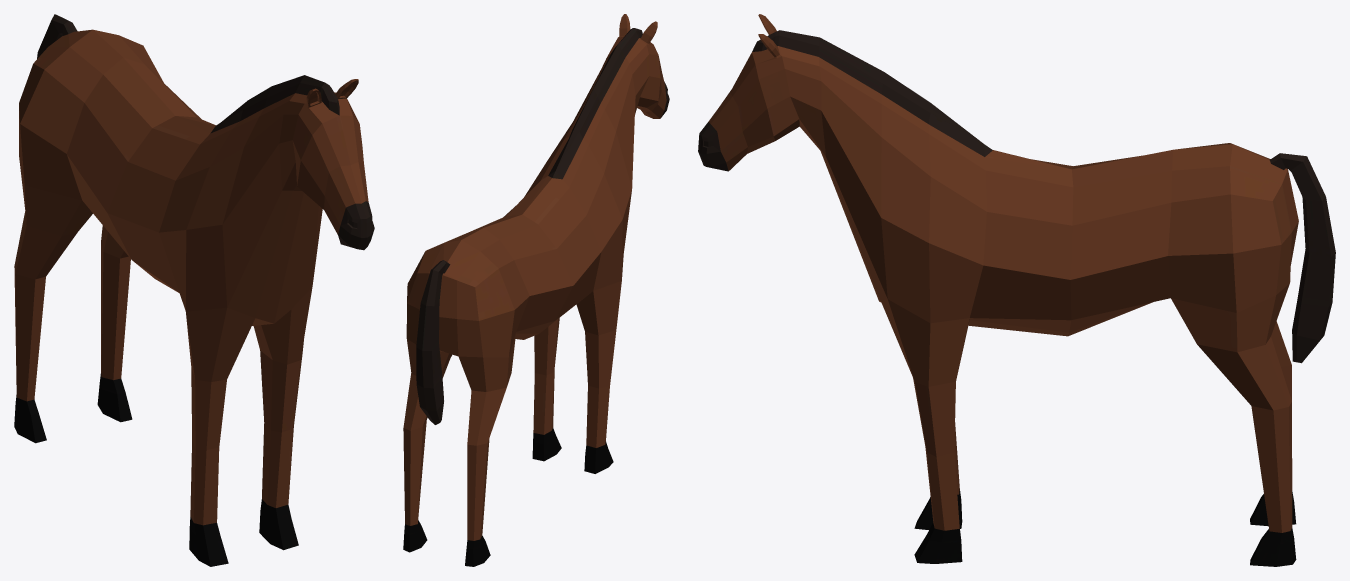
Rendered from prop_pa_horse.glb.
3 renders of one model, left to right at view 1: azimuth 30°, elevation 25°; view 2: azimuth 150°, elevation 25°; view 3: azimuth 270°, elevation 25°, orthographic. The views are drawn at different scales.
Visible parts, largest first — view 1: 17horseFinal; view 2: 17horseFinal; view 3: 17horseFinal.
Part boxes in pixels (bbox=[...]): 17horseFinal: bbox=[14, 14, 374, 566]; 17horseFinal: bbox=[403, 14, 669, 566]; 17horseFinal: bbox=[698, 14, 1335, 566].
Bounding box in the file's own units: 0.5351 × 1.87 × 2.09.
Materials: 1 (1 with a texture image).
